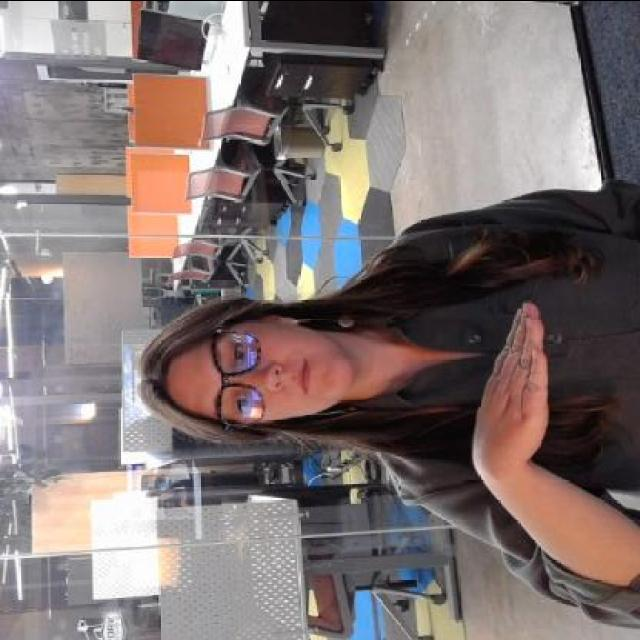Paper: (457, 293, 574, 477)
